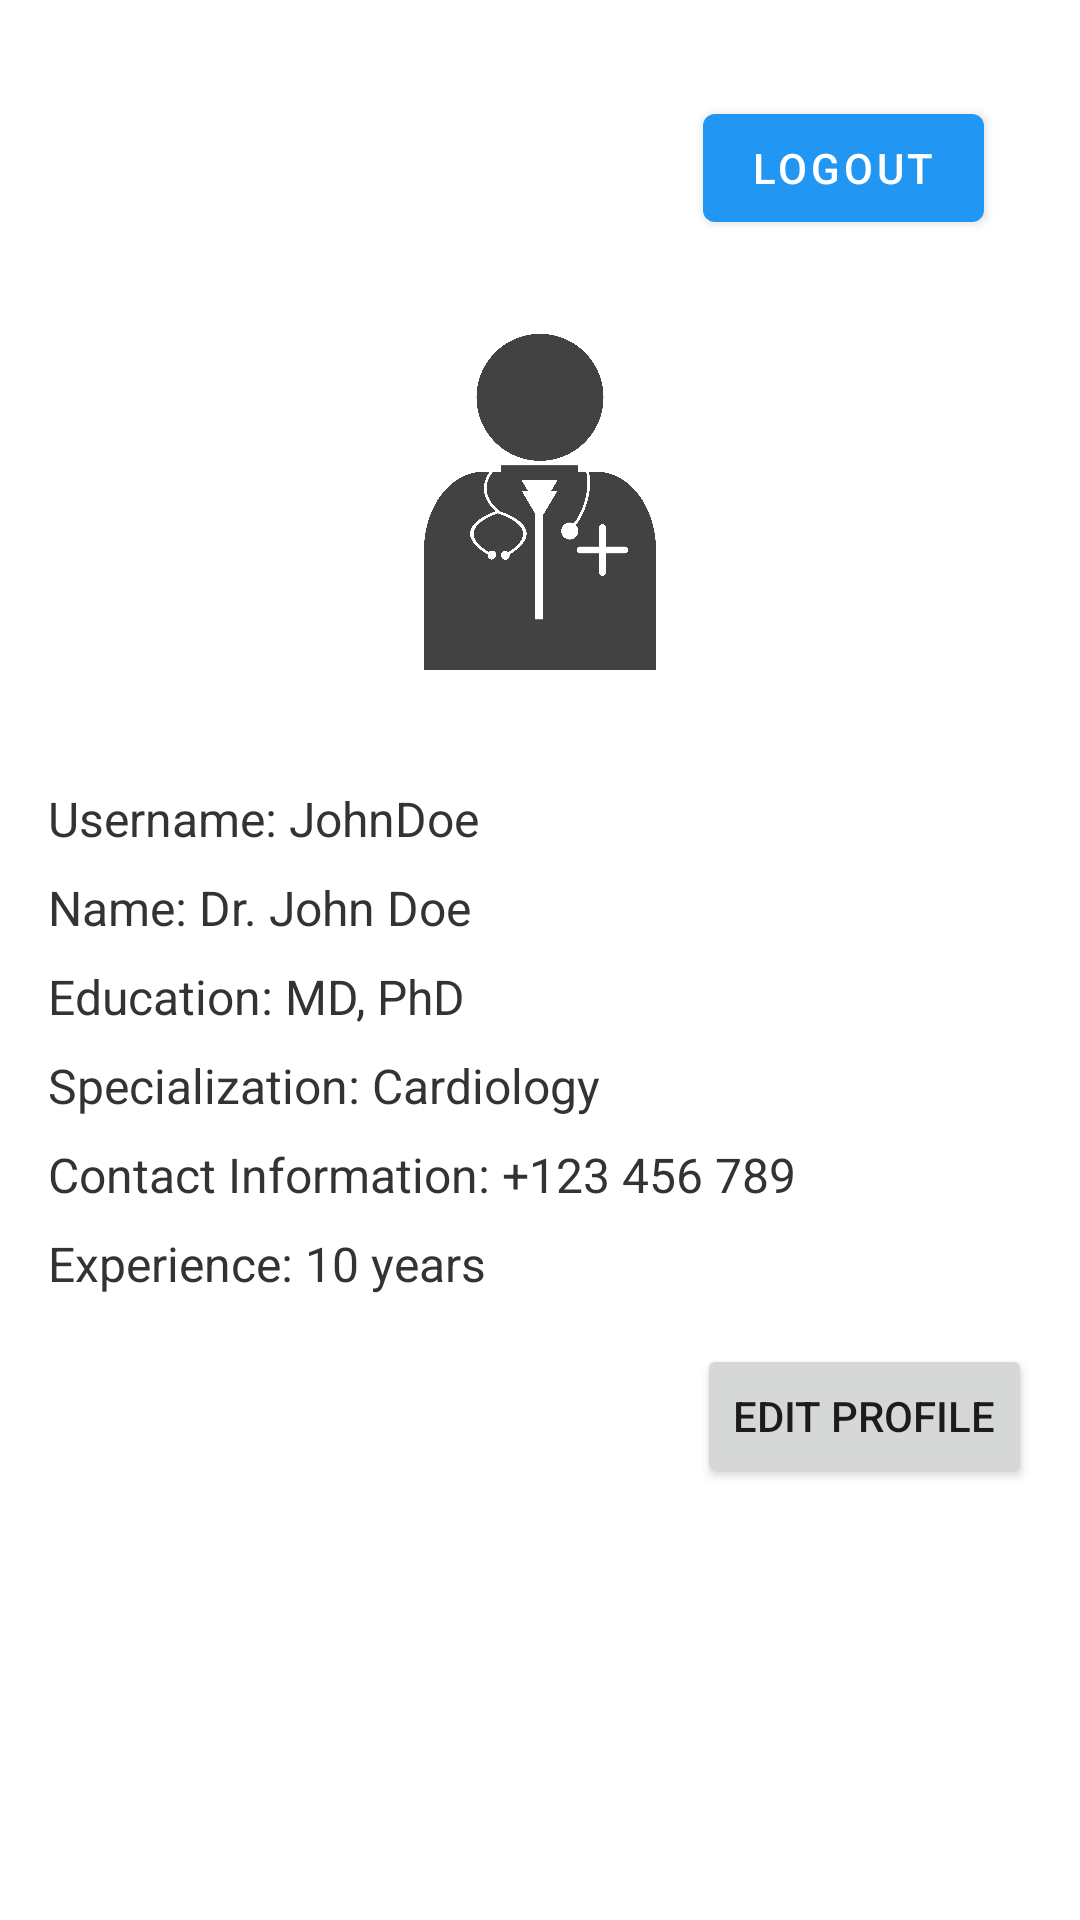

Where to tap for icons on this 1080*1920 app screen, as (x=x, y=y):
Profile Photo: (x=540, y=502)
